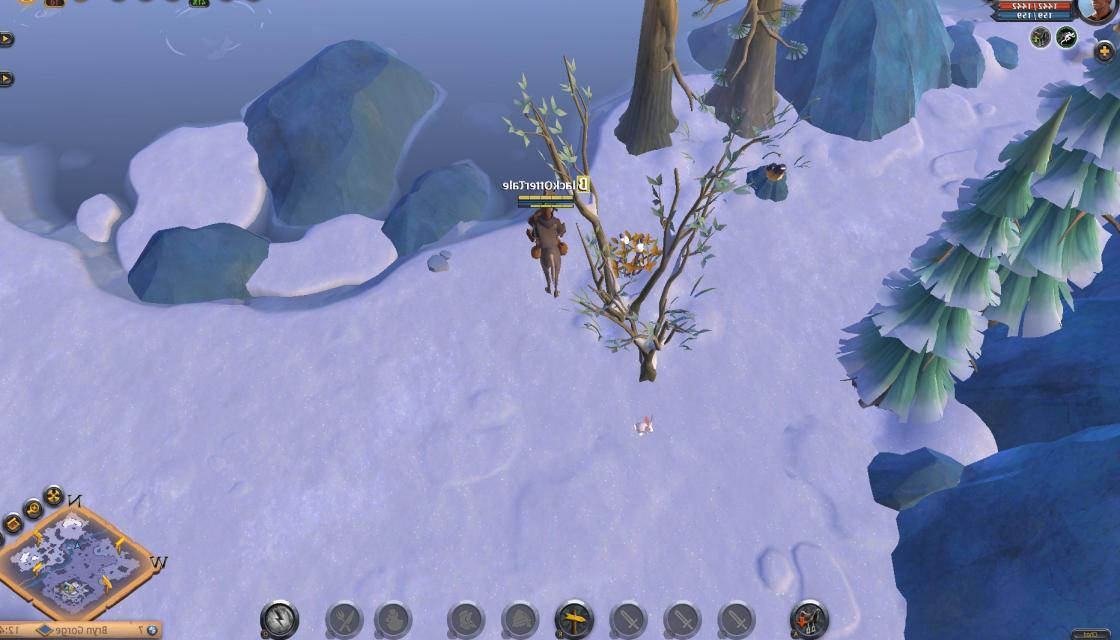copperore: (742, 158, 793, 202)
